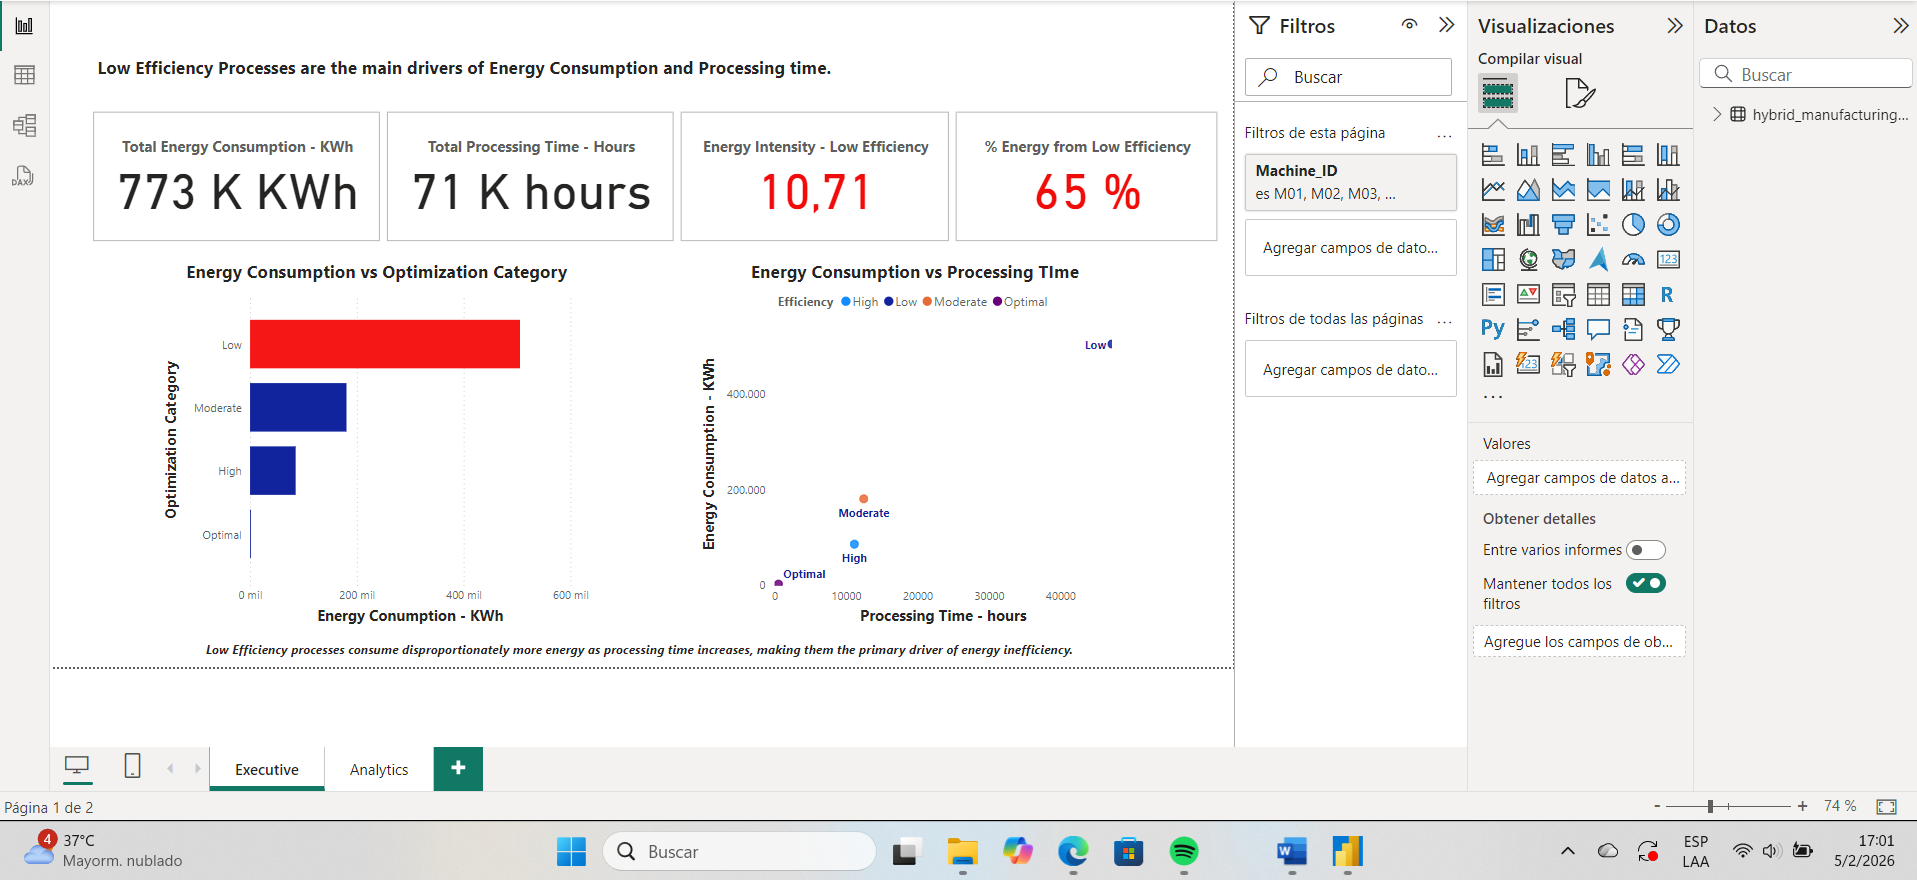

This screenshot's page, from the dashboard's own definition file:
{"tool":"powerbi","page":{"name":"Página 1","canvas":[1280,720],"ordinal":0},"visuals":[{"type":"clusteredBarChart","title":"Energy Consumption vs Optimization Category","fields":{"Category":["hybrid_manufacturing_categorica.Optimization_Category"],"Y":["Sum(hybrid_manufacturing_categorica.Energy_Consumption)"]},"box":[119,280.4,469.1,400.2],"z":0},{"type":"scatterChart","title":"Energy Consumption vs Processing TIme","fields":{"X":["Sum(hybrid_manufacturing_categorica.Processing_Time)"],"Y":["Sum(hybrid_manufacturing_categorica.Energy_Consumption)"],"Series":["hybrid_manufacturing_categorica.Optimization_Category"]},"box":[700.3,280.4,470.5,400.2],"z":1000},{"type":"cardVisual","fields":{"Data":["hybrid_manufacturing_categorica.Total Energy Consumption - KWh"]},"box":[41.9,114.9,320,150.1],"z":2000},{"type":"cardVisual","fields":{"Data":["hybrid_manufacturing_categorica.Total Processing Time -Hours"]},"box":[359.5,114.9,320,150.1],"z":3000},{"type":"cardVisual","fields":{"Data":["hybrid_manufacturing_categorica.Energy Intensity"]},"box":[677,114.9,300.1,150.1],"z":4000},{"type":"textbox","box":[41.9,54.1,812.5,43.3],"z":5000},{"type":"cardVisual","fields":{"Data":["hybrid_manufacturing_categorica.% Energy from Low Efficiency"]},"box":[974.7,114.9,293.4,150.1],"z":6000},{"type":"textbox","box":[119,686.8,1036.9,33.8],"z":7000}]}

Visuals, with their boxes on the page's 1280x720 design canvas (x1, y1, x2, y2). These are canvas units, not pixel positions in the 1917x880 screenshot, which may show the page scaled, cropped or inside an application window:
"Energy Consumption vs Optimization Category" clusteredBarChart: crop(119, 280, 588, 681)
"Energy Consumption vs Processing TIme" scatterChart: crop(700, 280, 1171, 681)
cardVisual - hybrid_manufacturing_categorica.Total Energy Consumption - KWh: crop(42, 115, 362, 265)
cardVisual - hybrid_manufacturing_categorica.Total Processing Time -Hours: crop(360, 115, 680, 265)
cardVisual - hybrid_manufacturing_categorica.Energy Intensity: crop(677, 115, 977, 265)
textbox: crop(42, 54, 854, 97)
cardVisual - hybrid_manufacturing_categorica.% Energy from Low Efficiency: crop(975, 115, 1268, 265)
textbox: crop(119, 687, 1156, 721)
